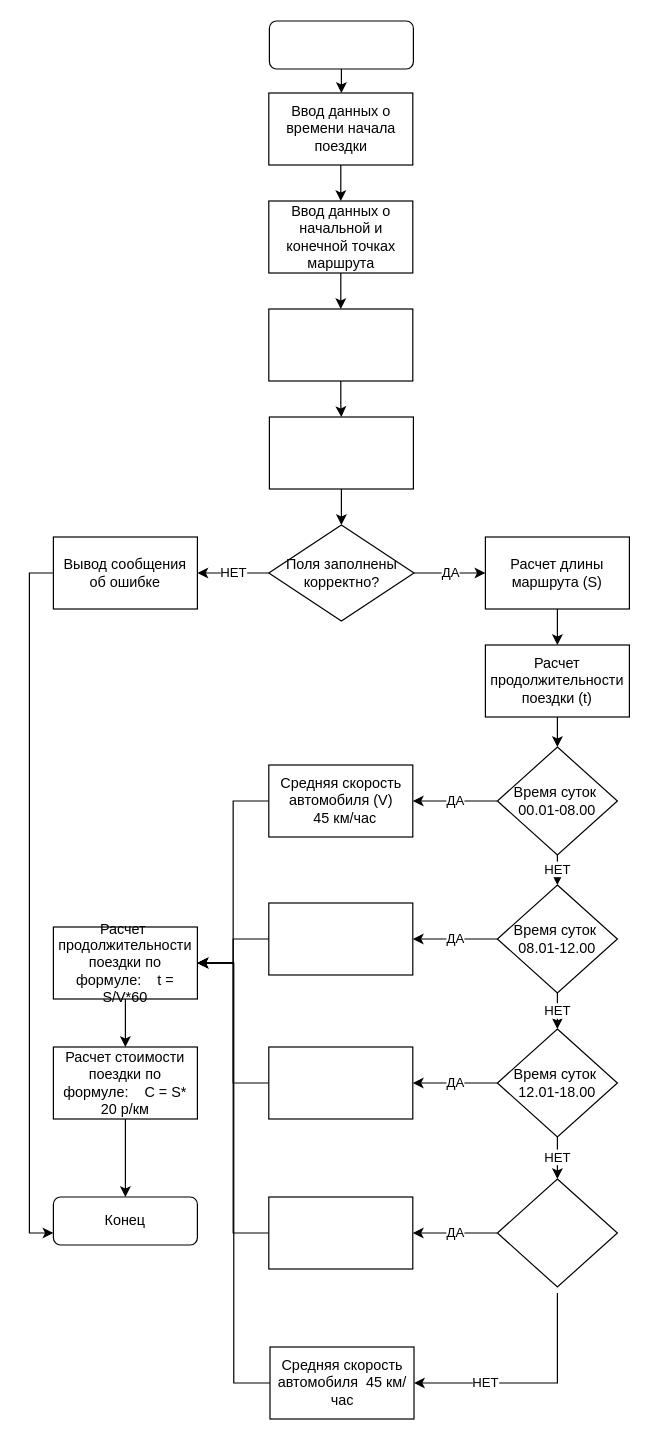
Some shapes in this 650 by 1440 pixel diagram are drawn without their labels. Each missing label, with the centre of its shape:
Время суток 18.01-22.00: pixel 556 1232
Выбор вида транспорта "Свой автомобиль": pixel 340 452
Выбор режима поездки "Свой": pixel 340 344
Начало: pixel 340 44
Средняя скорость автомобиля (V) 40 км/час: pixel 340 1082
Средняя скорость автомобиля 25 км/час: pixel 340 1232
Средняя скорость автомобиля 30 км/час: pixel 340 938
